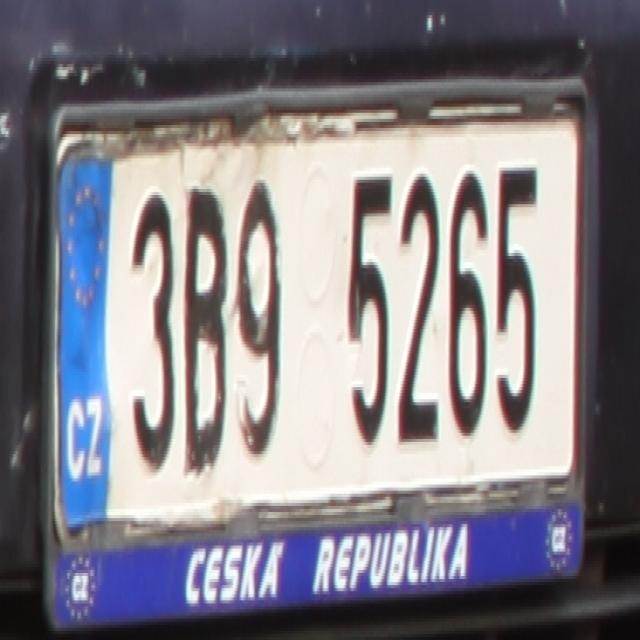2: (395, 170, 440, 448)
3: (126, 188, 174, 476)
5: (346, 168, 390, 448), (494, 149, 538, 424)
6: (445, 170, 488, 436)
9: (235, 182, 282, 458)
B: (182, 182, 228, 484)
